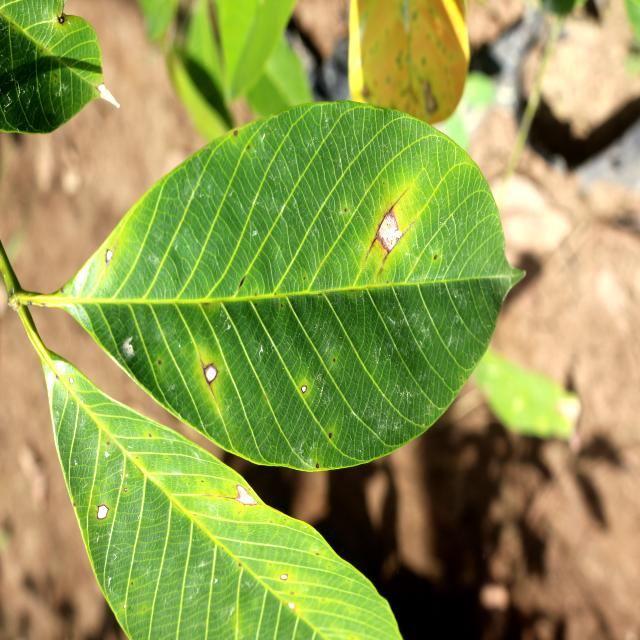Colletotrichum: (203, 363, 218, 384), (96, 504, 109, 520), (280, 573, 288, 581), (301, 385, 307, 393), (124, 487, 127, 492)
Corynespora: (361, 187, 415, 277)
Leaf-Blight: (236, 486, 256, 505)
